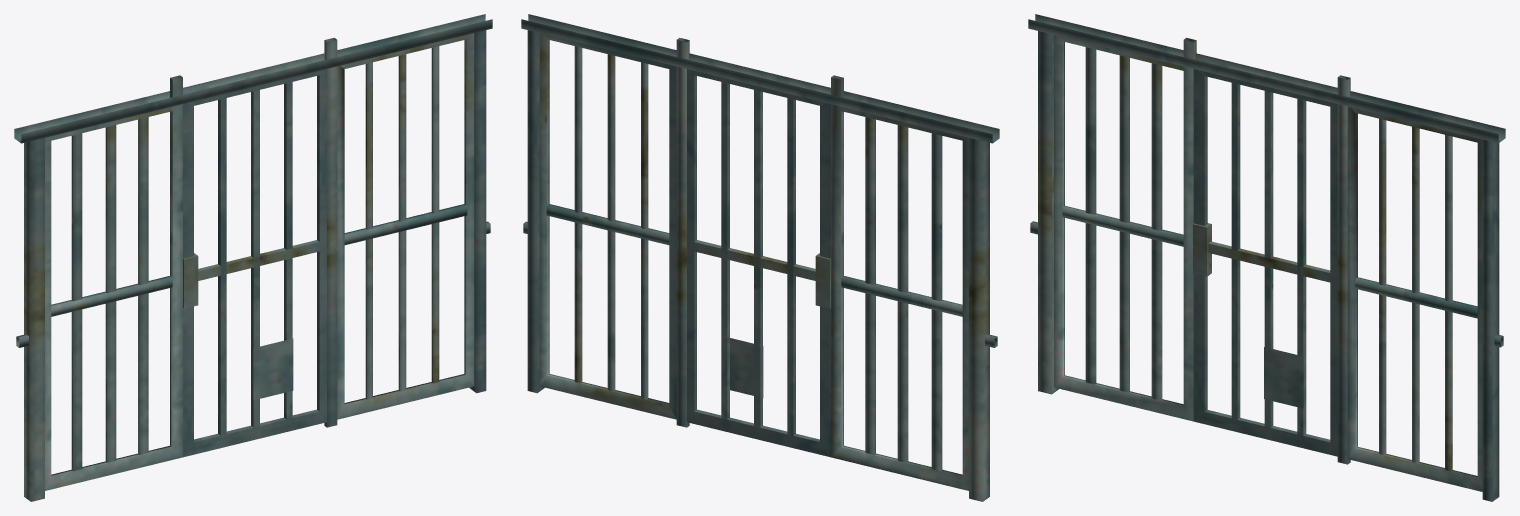
Rendered from Fence04Gate.obj.
3 views of the same model, side by side, from view 1: azimuth 30°, elevation 25°; view 2: azimuth 150°, elevation 25°; view 3: azimuth 330°, elevation 25° (orthographic).
Visible parts, largest first — view 1: Fence04Gate, Fence04GateDoor; view 2: Fence04Gate, Fence04GateDoor; view 3: Fence04Gate, Fence04GateDoor.
Boxes of the visible parts, x1,y1,x2,y2 form: Fence04Gate: (14,14,492,501); Fence04GateDoor: (183,69,326,457); Fence04Gate: (521,14,999,501); Fence04GateDoor: (687,69,830,457); Fence04Gate: (1028,14,1505,501); Fence04GateDoor: (1193,69,1337,456).
Size of the model in its own units: 4 by 3.13 by 0.1035.
